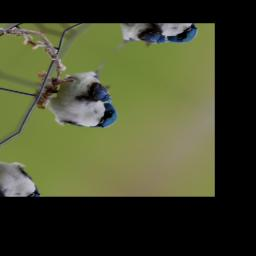Swallow: (24, 45, 152, 145)
